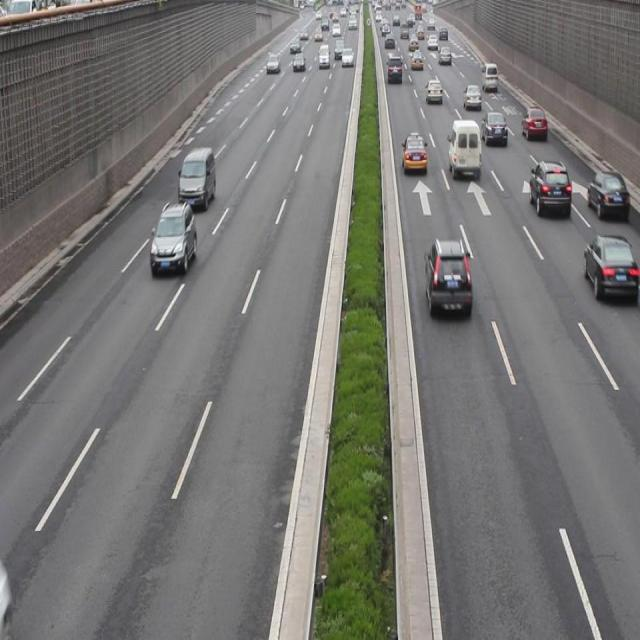car: (424, 238, 470, 315), (582, 232, 632, 301), (150, 203, 196, 276), (527, 156, 568, 216), (585, 170, 627, 220), (401, 131, 425, 175), (520, 108, 546, 142), (481, 110, 505, 144)
truck: (179, 147, 215, 205), (447, 121, 480, 179)
